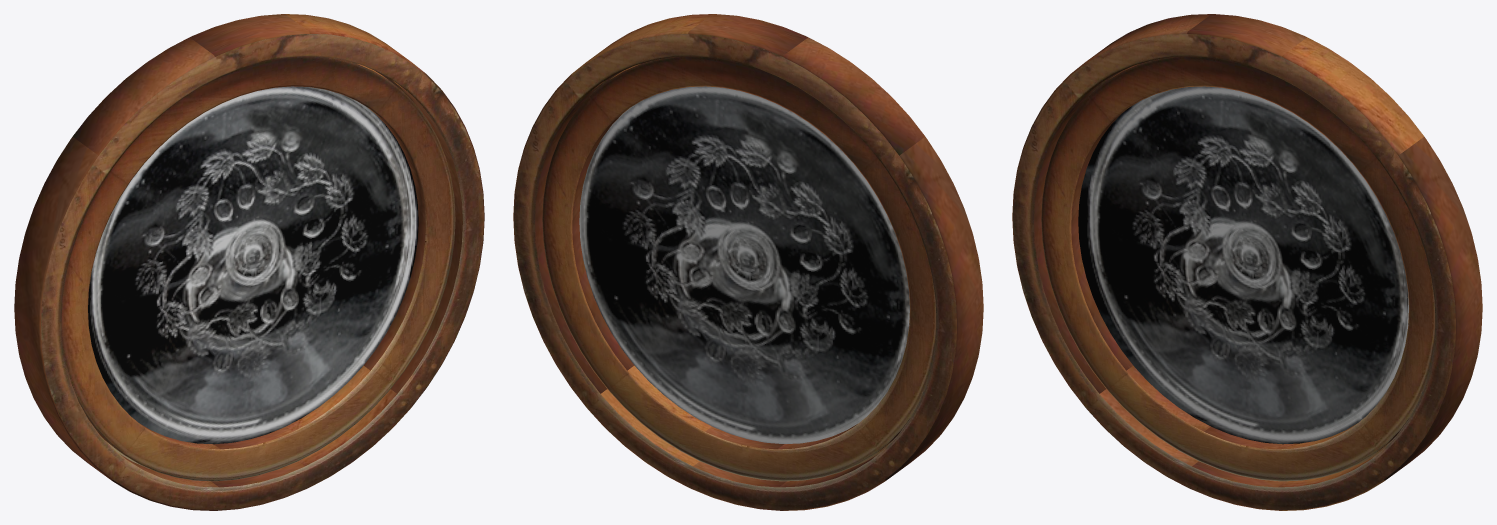
The model's file is RoundWindowWood02.fbx.
3 views of the same model, side by side, from view 1: azimuth 30°, elevation 25°; view 2: azimuth 150°, elevation 25°; view 3: azimuth 330°, elevation 25° (orthographic).
Parts seen in each view (by area): view 1: default; view 2: default; view 3: default.
Boxes of the visible parts, x1=… form: default: x1=14, y1=14, x2=484, y2=510; default: x1=513, y1=14, x2=983, y2=510; default: x1=1012, y1=14, x2=1482, y2=510.
Bounding box in the file's own units: 121 × 121 × 12.24.
